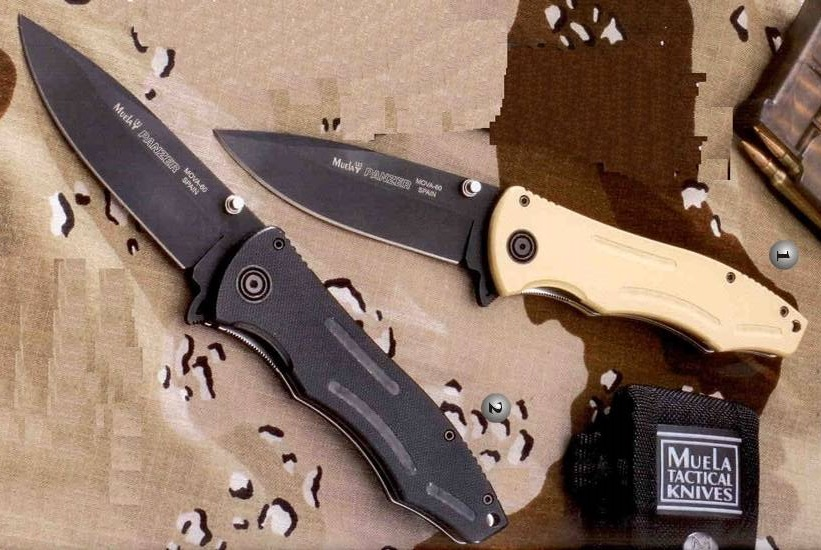knife: (15, 10, 281, 329), (206, 120, 525, 312)
